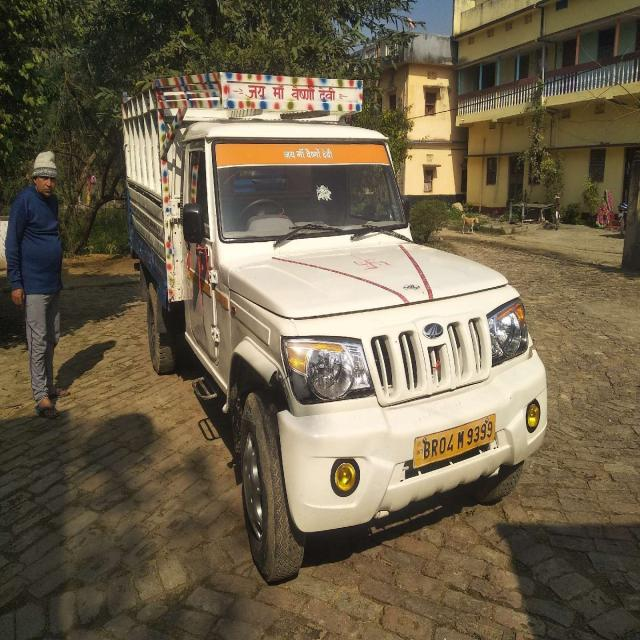light_vehicle: (125, 92, 549, 533)
